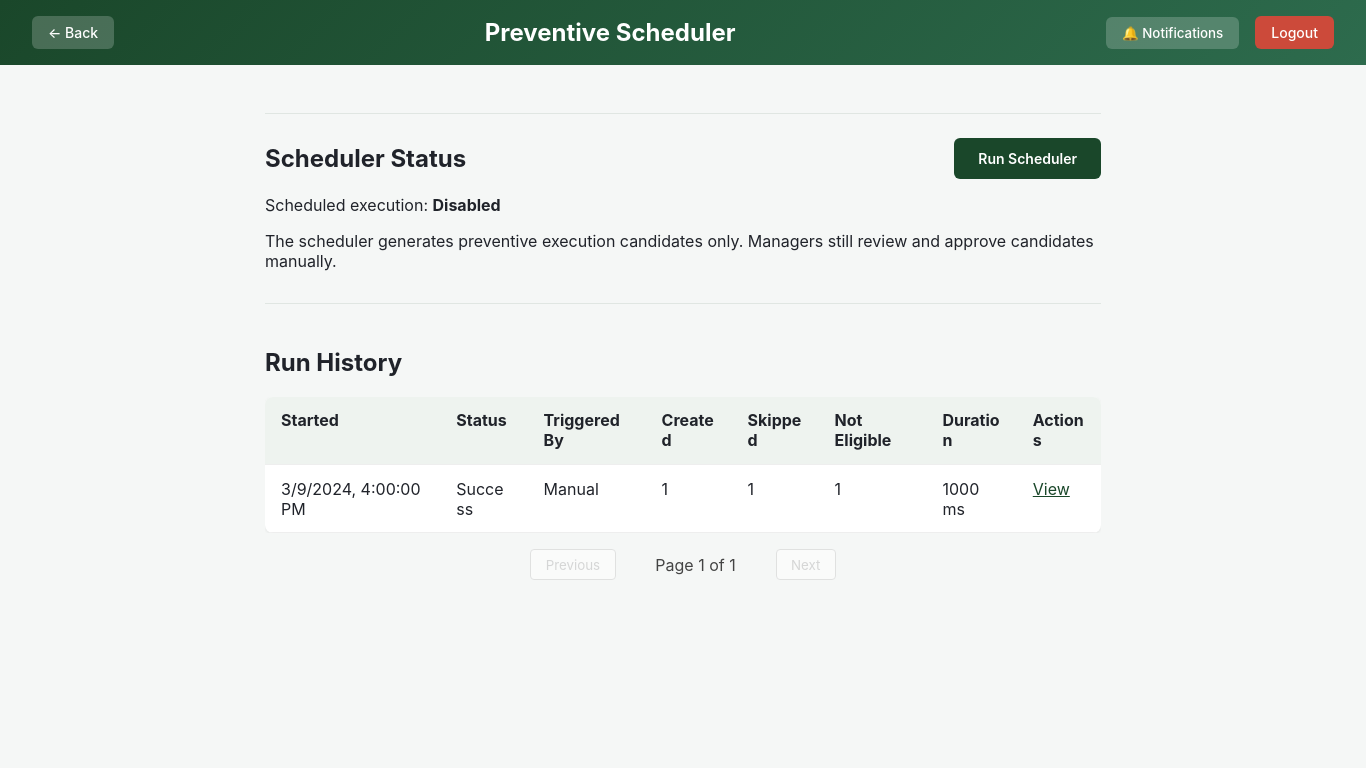
Test case: PreventiveSchedulerPage › runs scheduler manually and shows result counts
expect the heading "Preventive Scheduler" is shown: met, box 485,18 -> 736,47
What coordinates should you click on to do the following:
click the button "Run Scheduler"
I would click on:
 (1028, 158)
Its box is 954,138 -> 1101,179.
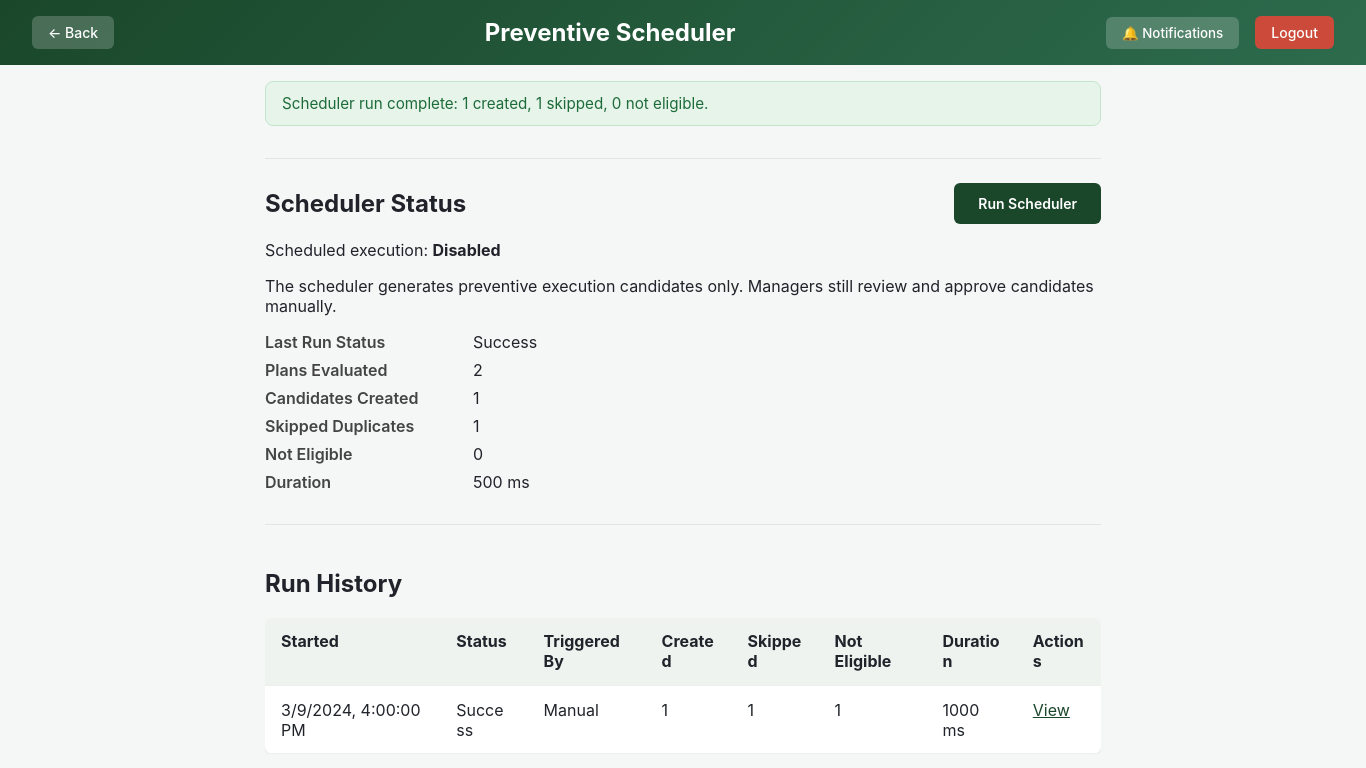
expect the text "Scheduler run complete" is shown: met, box 282,94 -> 708,113
